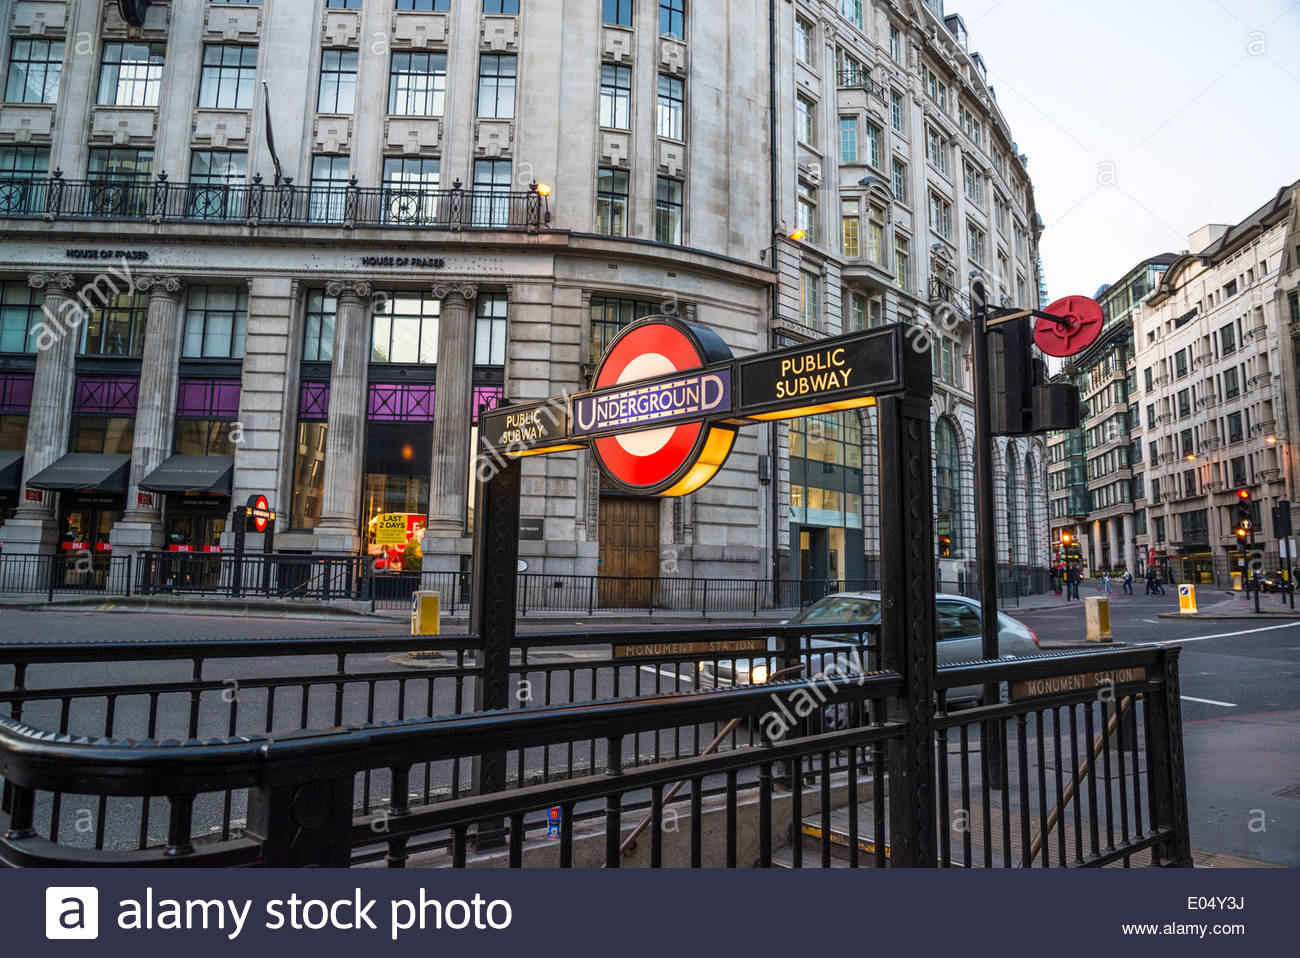London Underground: (575, 311, 736, 499)
